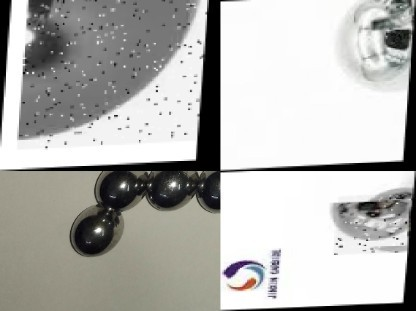ironball: (19, 0, 208, 148), (327, 0, 415, 106), (334, 194, 413, 255), (66, 203, 130, 258), (143, 166, 197, 216), (93, 170, 146, 207), (382, 4, 415, 42), (198, 171, 218, 219)
